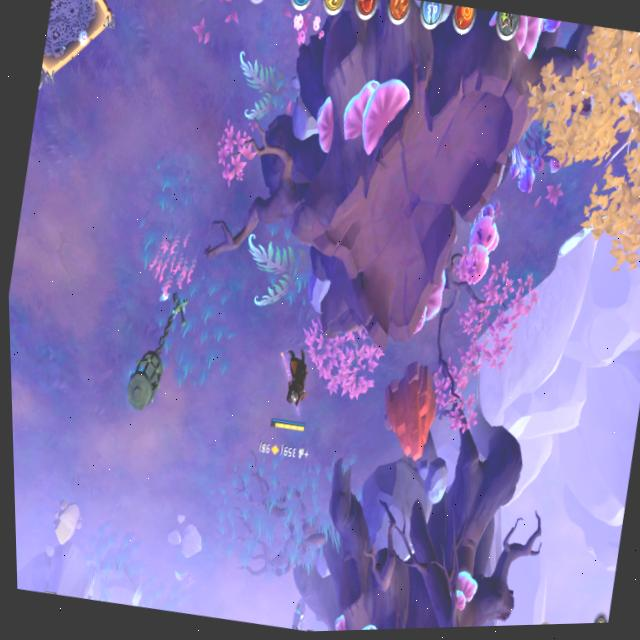10: (115, 283, 191, 420)
red: (260, 338, 324, 445)
tree: (368, 355, 448, 470)
wisp caged: (509, 14, 640, 215)
